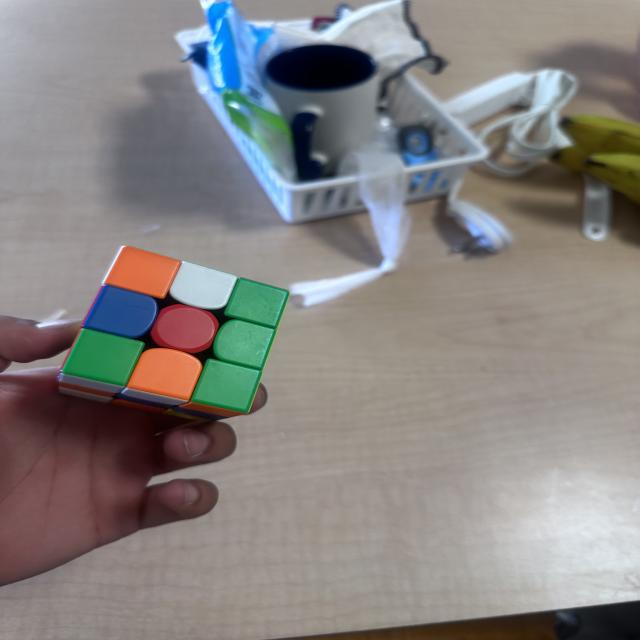sticker: (58, 328, 146, 393), (119, 347, 205, 410), (188, 358, 264, 417), (105, 245, 183, 300), (82, 285, 160, 339), (148, 304, 220, 355), (168, 261, 238, 310), (223, 278, 290, 328), (212, 319, 278, 369), (168, 403, 236, 422), (109, 397, 168, 414)
